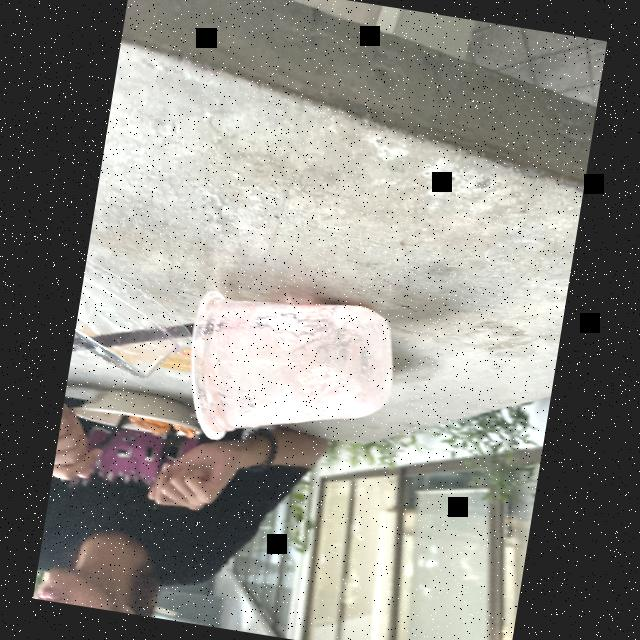plastic_cup: (175, 278, 406, 476)
plastic_cup_lid: (70, 276, 188, 384)
straw: (71, 318, 227, 359)
